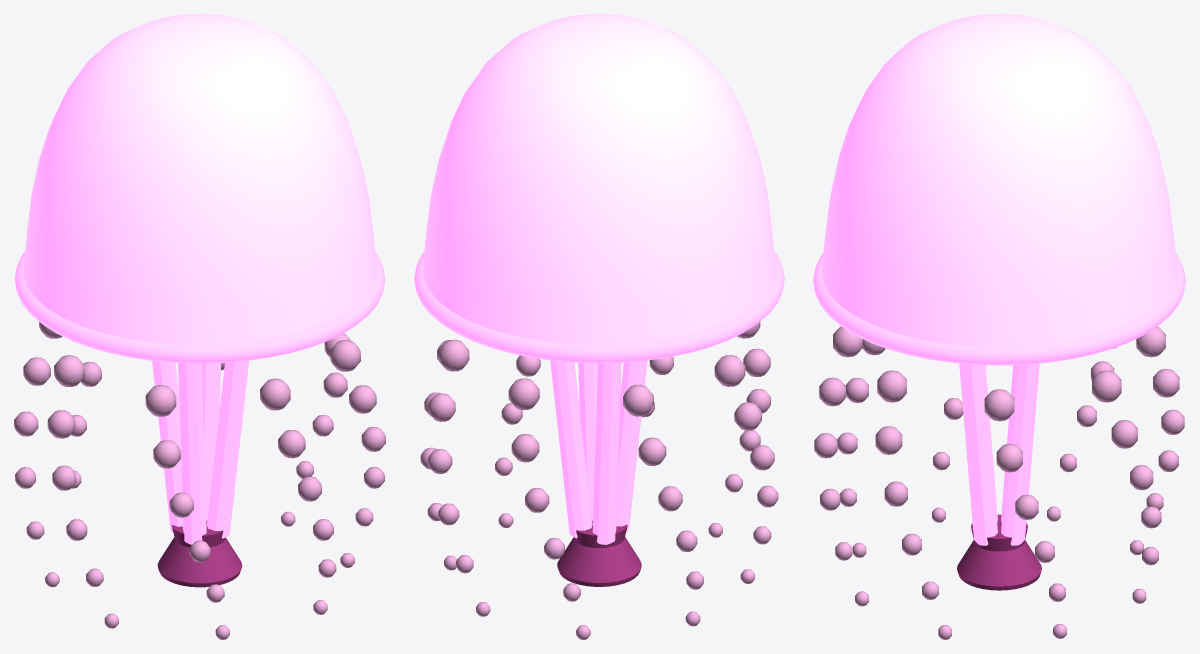
The model's file is Rocket_26_Jellyfish.fbx.
The picture shows the model from 3 angles, left to right: view 1: azimuth 30°, elevation 25°; view 2: azimuth 150°, elevation 25°; view 3: azimuth 270°, elevation 25°; orthographic projection.
Parts seen in each view (by area): view 1: R26_Bell, R26_BellRim, R26_Oral_4, R26_Oral_3, R26_Nozzle, R26_Oral_2, R26_Oral, R26_Tentacle_31, R26_Tentacle_37, R26_Tentacle_25, R26_Tentacle_43, R26_Tentacle_26 (+4 smaller); view 2: R26_Bell, R26_BellRim, R26_Oral_2, R26_Oral, R26_Nozzle, R26_Oral_3, R26_Oral_4, R26_Tentacle_13, R26_Tentacle_25, R26_Tentacle_7, R26_Tentacle_19, R26_Tentacle_14 (+4 smaller); view 3: R26_Bell, R26_BellRim, R26_Oral_4, R26_Oral, R26_Nozzle, R26_Tentacle, R26_Tentacle_43, R26_Tentacle_7, R26_Tentacle_13, R26_Tentacle_37, R26_Tentacle_44, R26_Tentacle_14 (+3 smaller).
Part boxes in pixels (<box>): R26_Bell: <box>23,14,376,345</box>; R26_BellRim: <box>14,251,385,363</box>; R26_Oral_4: <box>207,360,249,538</box>; R26_Oral_3: <box>178,363,206,544</box>; R26_Nozzle: <box>157,521,242,587</box>; R26_Oral_2: <box>152,361,182,532</box>; R26_Oral: <box>201,363,221,520</box>; R26_Tentacle_31: <box>145,385,176,416</box>; R26_Tentacle_37: <box>260,378,290,410</box>; R26_Tentacle_25: <box>54,355,84,386</box>; R26_Tentacle_43: <box>330,340,360,371</box>; R26_Tentacle_26: <box>47,410,75,438</box>; R26_Bell: <box>423,14,775,344</box>; R26_BellRim: <box>414,251,784,363</box>; R26_Oral_2: <box>592,362,621,544</box>; R26_Oral: <box>550,360,592,538</box>; R26_Nozzle: <box>557,520,641,586</box>; R26_Oral_3: <box>616,360,647,532</box>; R26_Oral_4: <box>578,362,597,520</box>; R26_Tentacle_13: <box>508,378,539,410</box>; R26_Tentacle_25: <box>714,355,745,386</box>; R26_Tentacle_7: <box>438,339,469,371</box>; R26_Tentacle_19: <box>623,384,653,416</box>; R26_Tentacle_14: <box>511,434,539,462</box>; R26_Bell: <box>821,14,1177,347</box>; R26_BellRim: <box>813,253,1185,365</box>; R26_Oral_4: <box>959,363,997,545</box>; R26_Oral: <box>1001,363,1039,545</box>; R26_Nozzle: <box>957,514,1041,590</box>; R26_Tentacle: <box>984,389,1014,421</box>; R26_Tentacle_43: <box>877,370,906,402</box>; R26_Tentacle_7: <box>1092,370,1121,402</box>; R26_Tentacle_13: <box>1136,326,1165,357</box>; R26_Tentacle_37: <box>833,326,862,357</box>; R26_Tentacle_44: <box>875,426,902,454</box>; R26_Tentacle_14: <box>1153,369,1179,397</box>.
Bounding box in the file's own units: 3.64 × 5.87 × 3.64.
